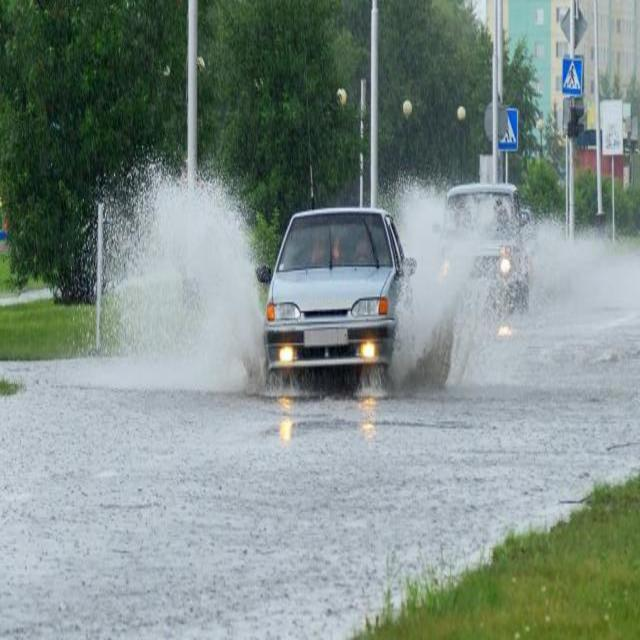car: (257, 208, 405, 391), (434, 184, 532, 353)
